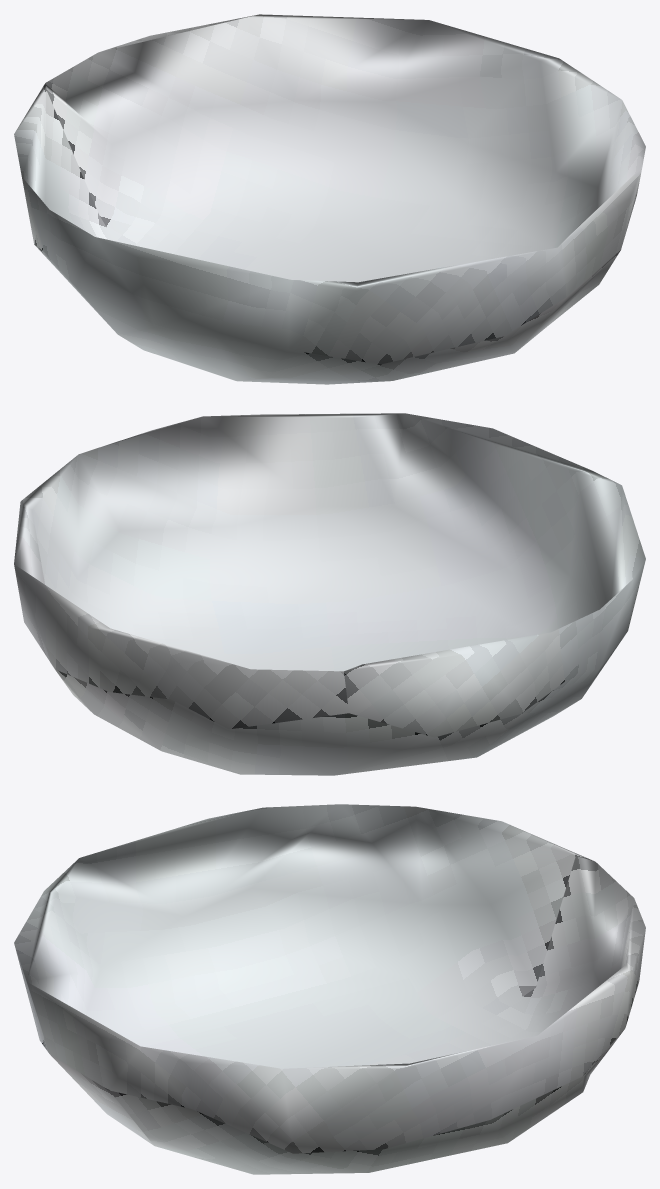
File: Threshold_Porcelain_Serving_Bowl_Coupe_White-low.glb
3 views of the same model, one above another, from view 1: azimuth 30°, elevation 25°; view 2: azimuth 150°, elevation 25°; view 3: azimuth 270°, elevation 25° (orthographic). The views are drawn at different scales.
Parts seen in each view (by area): view 1: Threshold_Porcelain_Serving_Bowl_Coupe_White; view 2: Threshold_Porcelain_Serving_Bowl_Coupe_White; view 3: Threshold_Porcelain_Serving_Bowl_Coupe_White.
Part boxes in pixels (box(x1,y1,x2,y2)): Threshold_Porcelain_Serving_Bowl_Coupe_White: box(14, 14, 645, 384); Threshold_Porcelain_Serving_Bowl_Coupe_White: box(14, 413, 645, 775); Threshold_Porcelain_Serving_Bowl_Coupe_White: box(14, 804, 645, 1174).
Bounding box in the file's own units: 0.2063 × 0.0683 × 0.2092.
Materials: 1 (1 with a texture image).
